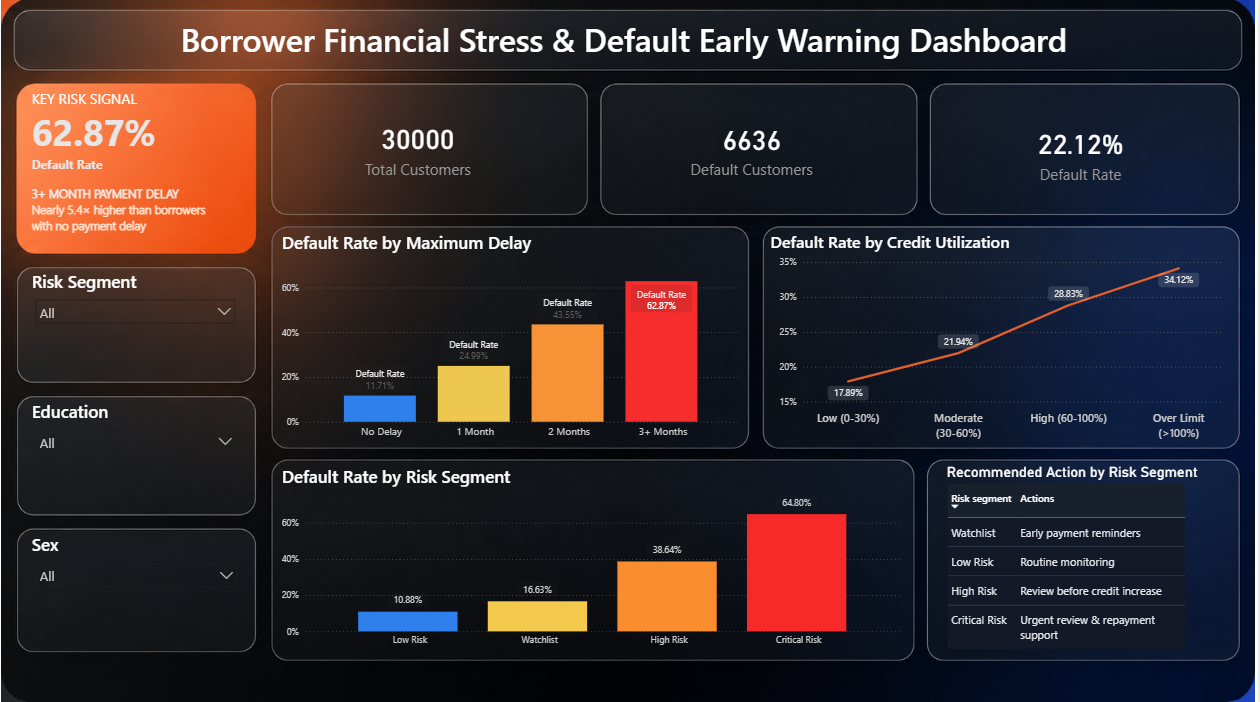

This screenshot's page, from the dashboard's own definition file:
{"tool":"powerbi","page":{"name":"Page 1","canvas":[1680,945],"ordinal":0},"visuals":[{"type":"card","fields":{"Values":["Credit Risk Data.Default Customers"]},"box":[800.5,115,410.4,166.3],"z":0},{"type":"card","fields":{"Values":["Credit Risk Data.Total Customers"]},"box":[352.9,121.2,413.5,152.3],"z":1000},{"type":"card","fields":{"Values":["Credit Risk Data.Default Rate"]},"box":[1240.4,115,407.3,178.8],"z":2000},{"type":"textbox","box":[42,20.2,1585.5,66.8],"z":3000},{"type":"slicer","title":"Risk Segment","fields":{"Values":["Credit Risk Data.risk_segment"]},"box":[40.4,360.6,286,150.8],"z":4000},{"type":"slicer","title":"Education","fields":{"Values":["Credit Risk Data.education"]},"box":[40.4,533.2,287.6,150.8],"z":5000},{"type":"slicer","title":"Sex","fields":{"Values":["Credit Risk Data.sex"]},"box":[40.4,711.9,289.1,161.7],"z":6000},{"type":"clusteredColumnChart","title":"Default Rate by Maximum Delay","fields":{"Category":["Credit Risk Data.delay_group"],"Y":["Credit Risk Data.Default Rate"]},"box":[373.1,307.8,618.7,287.6],"z":7000},{"type":"lineChart","title":"Default Rate by Credit Utilization","fields":{"Category":["Credit Risk Data.utilization_band"],"Y":["Credit Risk Data.Default Rate"]},"box":[1024.4,307.8,623.3,287.6],"z":8000},{"type":"clusteredColumnChart","title":" Default Rate by Risk Segment","fields":{"Category":["Credit Risk Data.risk_segment"],"Y":["Credit Risk Data.Default Rate"]},"box":[373.1,620.2,837.8,253.4],"z":9000},{"type":"tableEx","title":" Recommended Action by Risk Segment","fields":{"Values":["Credit Risk Data.risk_segment","Credit Risk Data.Dashboard Action"]},"box":[1260.6,620.2,366.8,253.4],"z":10000},{"type":"textbox","box":[40.4,115,328,217.6],"z":11000}]}

Visuals, with their boxes in screenshot pixels (x1, y1, x2, y2), scaled from the page's 1680x945 canvas onto the 1260x702 screenshot:
card - Credit Risk Data.Default Customers: Rect(600, 85, 908, 209)
card - Credit Risk Data.Total Customers: Rect(265, 90, 575, 203)
card - Credit Risk Data.Default Rate: Rect(930, 85, 1236, 218)
textbox: Rect(32, 15, 1221, 65)
"Risk Segment" slicer: Rect(30, 268, 245, 380)
"Education" slicer: Rect(30, 396, 246, 508)
"Sex" slicer: Rect(30, 529, 247, 649)
"Default Rate by Maximum Delay" clusteredColumnChart: Rect(280, 229, 744, 442)
"Default Rate by Credit Utilization" lineChart: Rect(768, 229, 1236, 442)
" Default Rate by Risk Segment" clusteredColumnChart: Rect(280, 461, 908, 649)
" Recommended Action by Risk Segment" tableEx: Rect(945, 461, 1221, 649)
textbox: Rect(30, 85, 276, 247)
